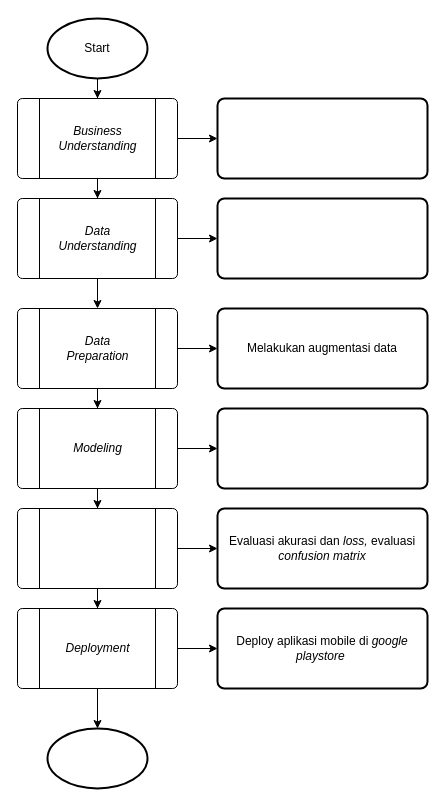
This 446x806 diagram has some shape labels left out. Here are the shapes that lost their labels. From the top down, the centre of each, then its label:
pixel 322 138: Sistem Berbasis android yang dapat mendeteksi penyakit daun pada tanaman kentang
pixel 322 238: Mengumpulkan data gambar penyakit daun pada tanaman kentang
pixel 322 448: Melakukan training data dengan algoritma Convolutional Neural Network
pixel 97 548: Evaluation
pixel 97 758: End
